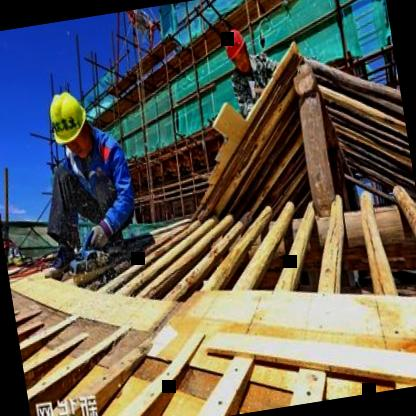helmet: (43, 80, 98, 165), (221, 23, 250, 77)
